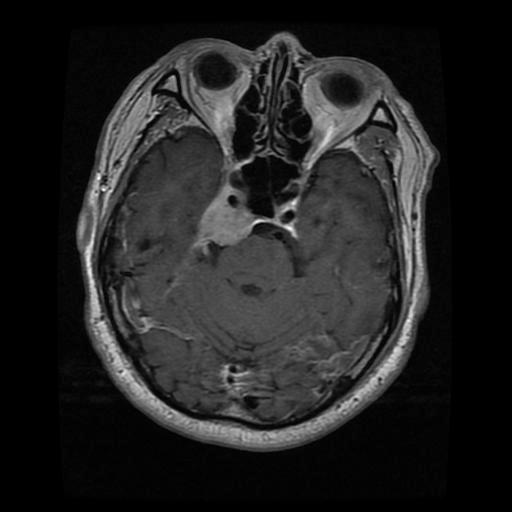Tumour-Meningioma: (194, 178, 271, 271)
